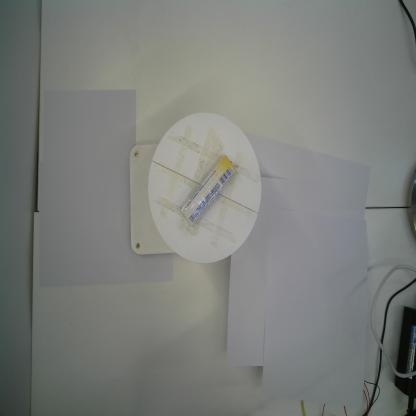Candy: (181, 154, 236, 226)
